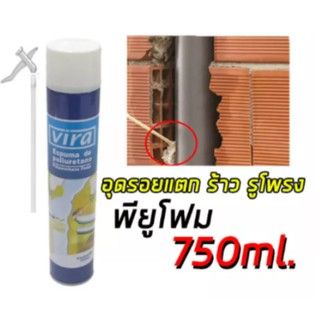Aerosol_cans: (43, 35, 102, 292)
